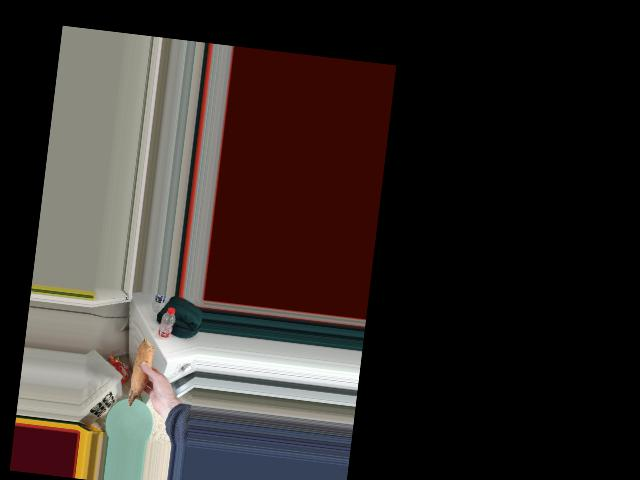sweet_potato: (127, 342, 154, 409)
